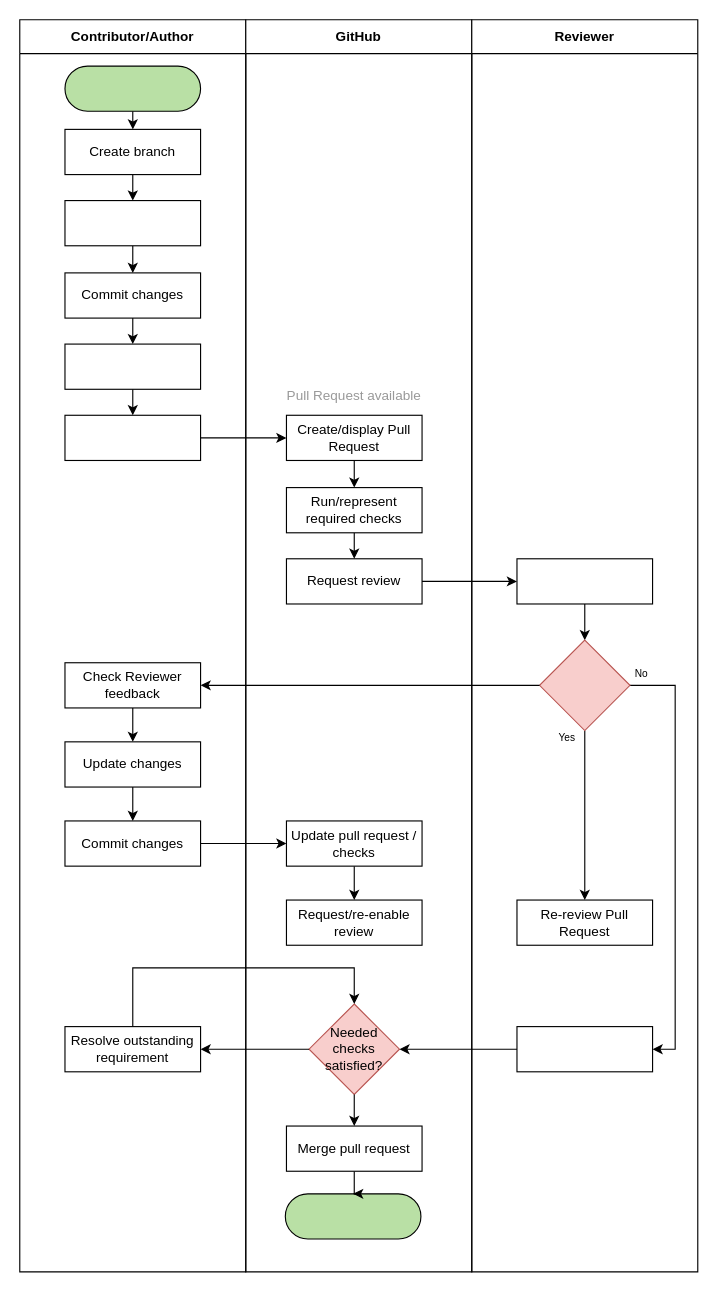
This 718x1292 diagram has some shape labels left out. The centre of each missing label's shape, as x and y in pixels:
"Approve" goes at [584,1048].
"Changes required?" goes at [584,685].
"End" goes at [352,1216].
"Make changes" goes at [132,222].
"Open Pull Request" goes at [132,437].
"Push branch" goes at [132,366].
"Review Pull Request" goes at [584,581].
"Start" goes at [132,88].
